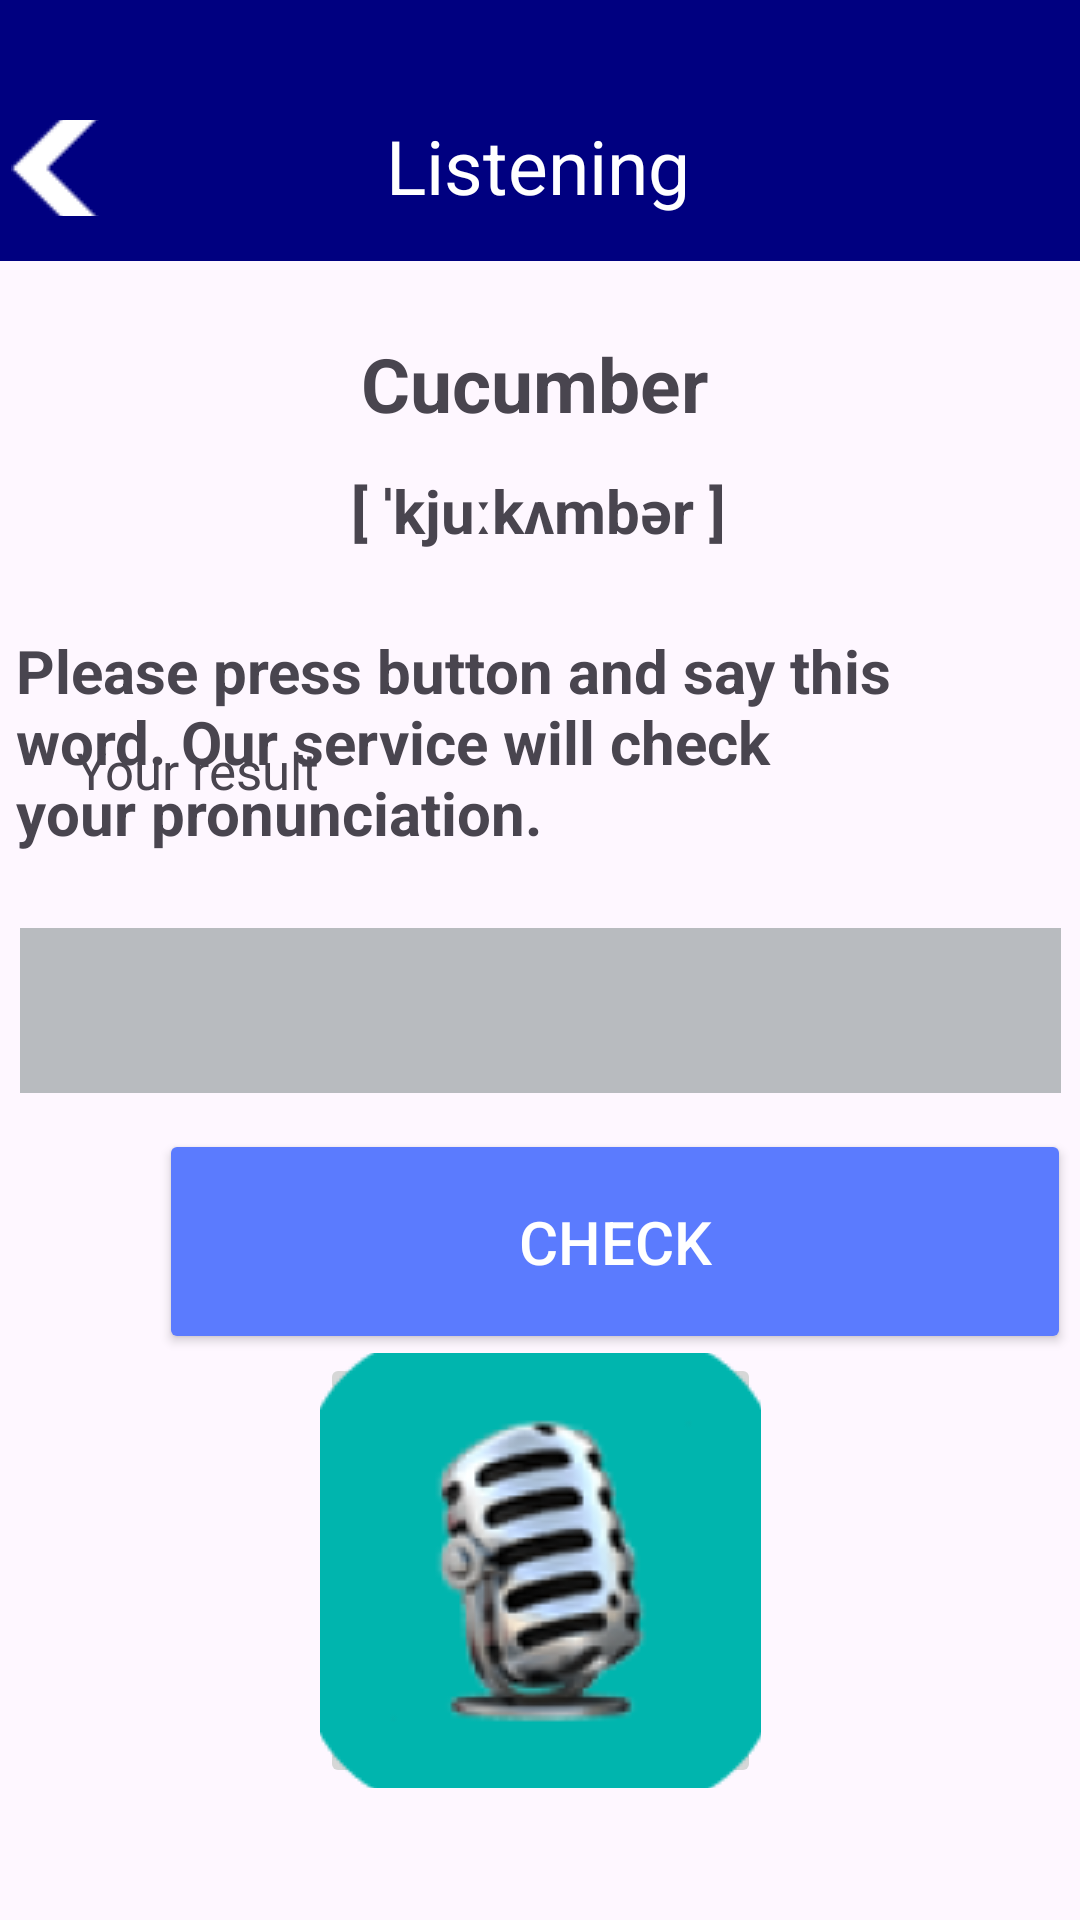

Icons on this 1080 × 1920 Android screen, each with its box as box=[x1, y1, x2, y2]:
back: box=[11, 120, 98, 216]
